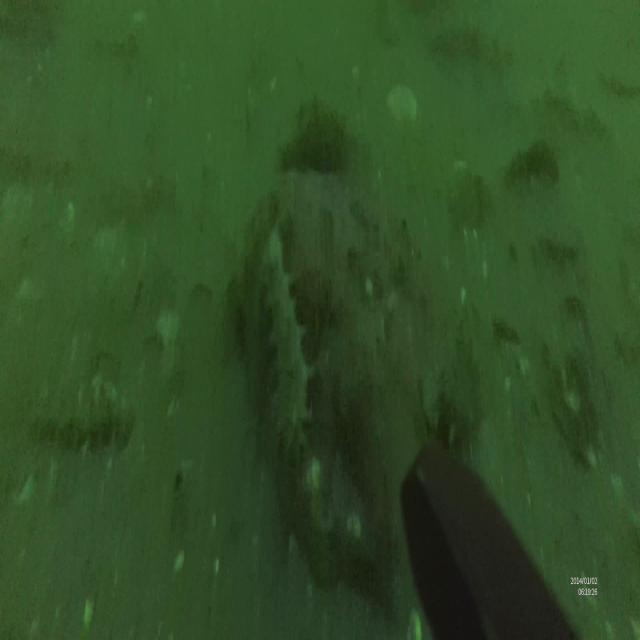holothurian: (259, 226, 314, 444), (25, 388, 136, 449)
